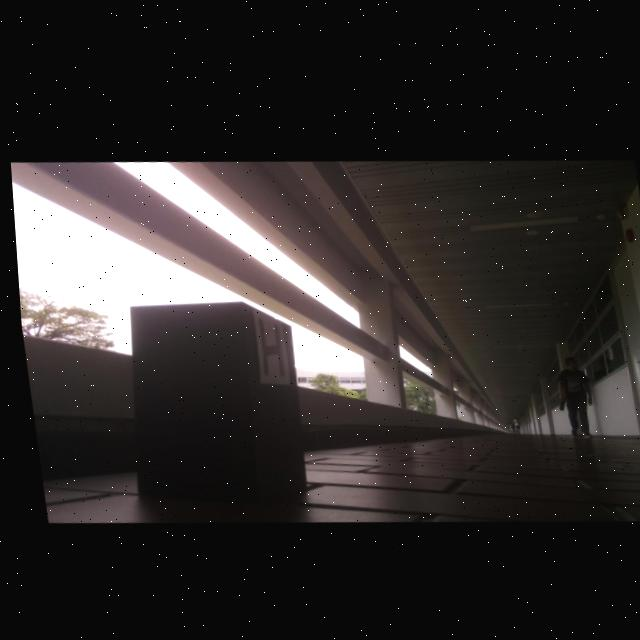H: (254, 315, 279, 373)
